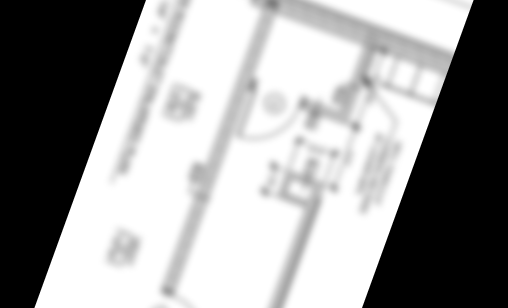door: (158, 0, 281, 301), (232, 84, 303, 157), (155, 290, 223, 308)
wall: (248, 0, 450, 78), (230, 175, 330, 308), (255, 0, 455, 62), (282, 167, 329, 193), (275, 165, 297, 202), (276, 189, 310, 210)
